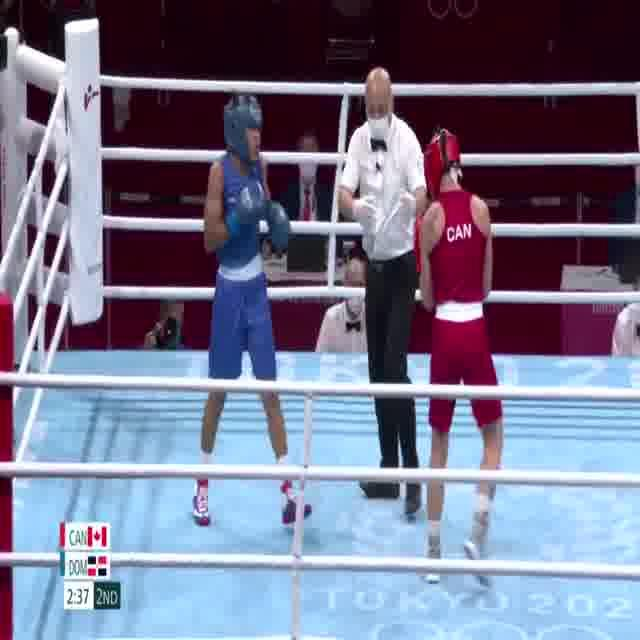blue-player: (187, 89, 315, 531)
red-player: (408, 125, 504, 590)
referee: (334, 64, 429, 521)
